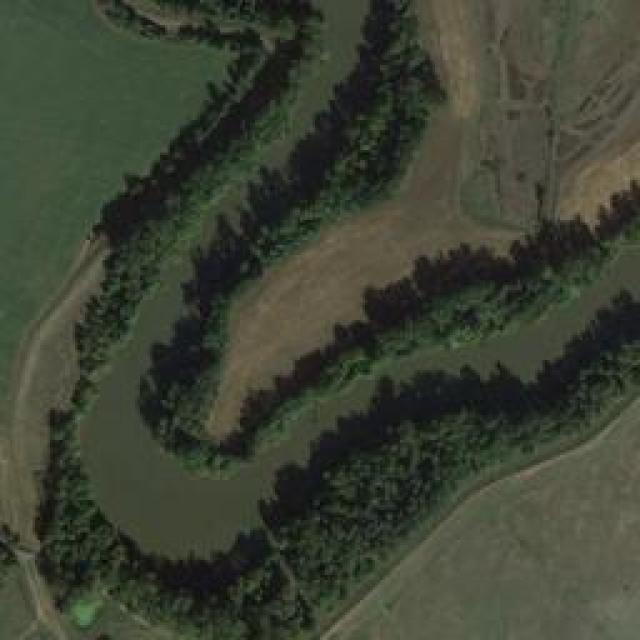River: (76, 0, 640, 582)
